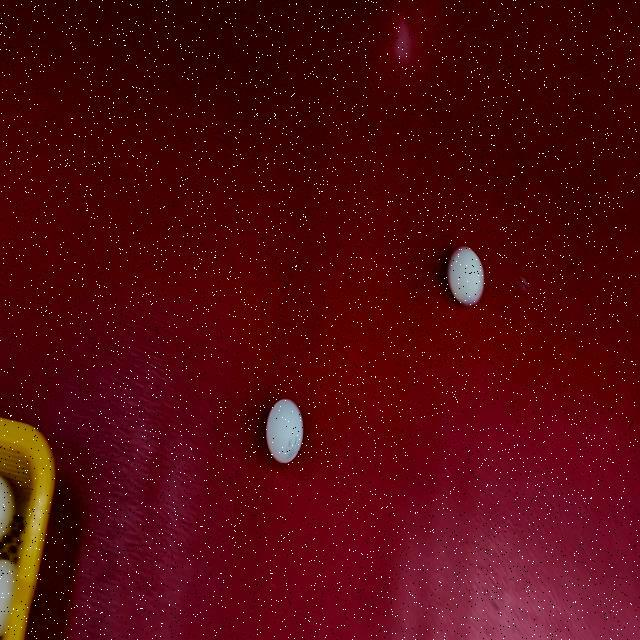ping-pong-ball: (262, 395, 305, 465), (444, 240, 486, 308)
